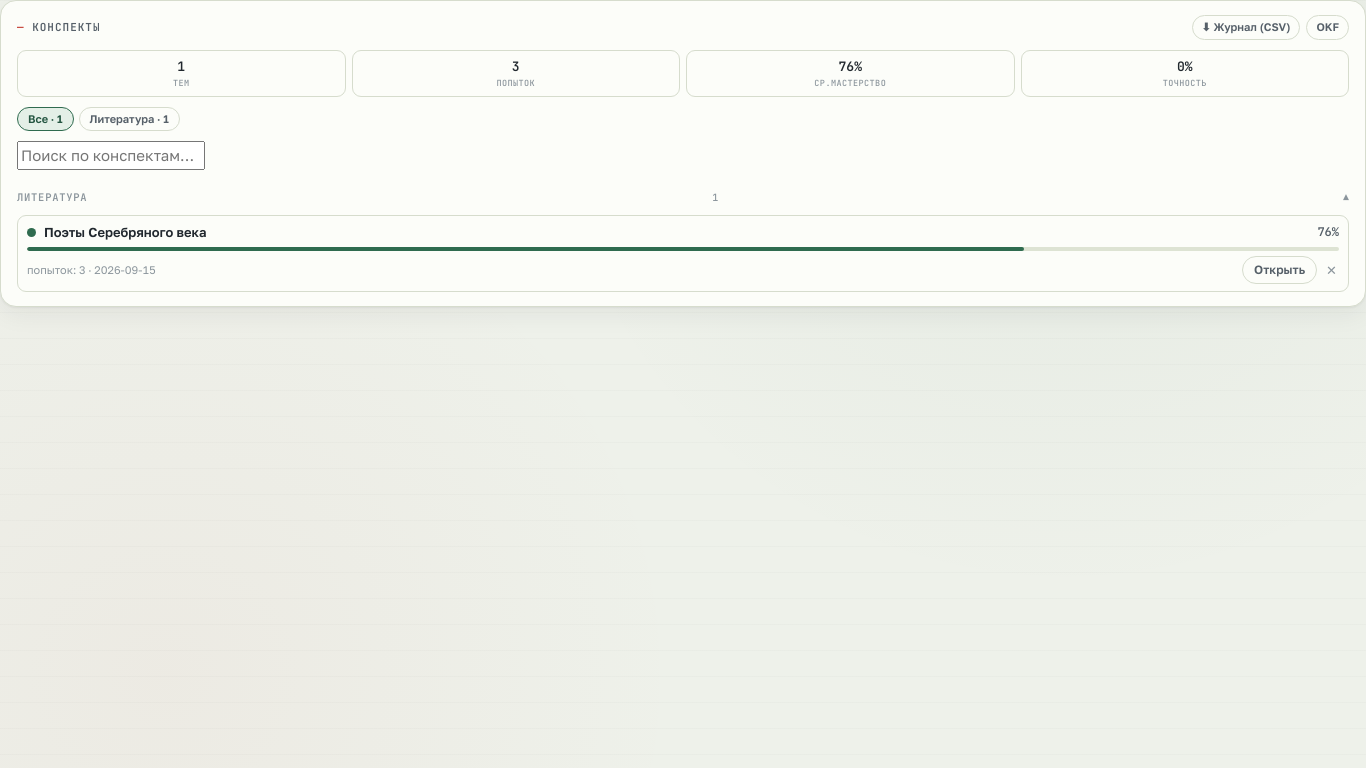
<KnowledgeWikiPanel/> › «Обогатить конспект» видна при теле-заглушке
Expected: the button "Литература · 1" is shown, [78,107,180,131]
Click the button "Поэты Серебряного века" at (125, 232), box [44,222,1309,242]
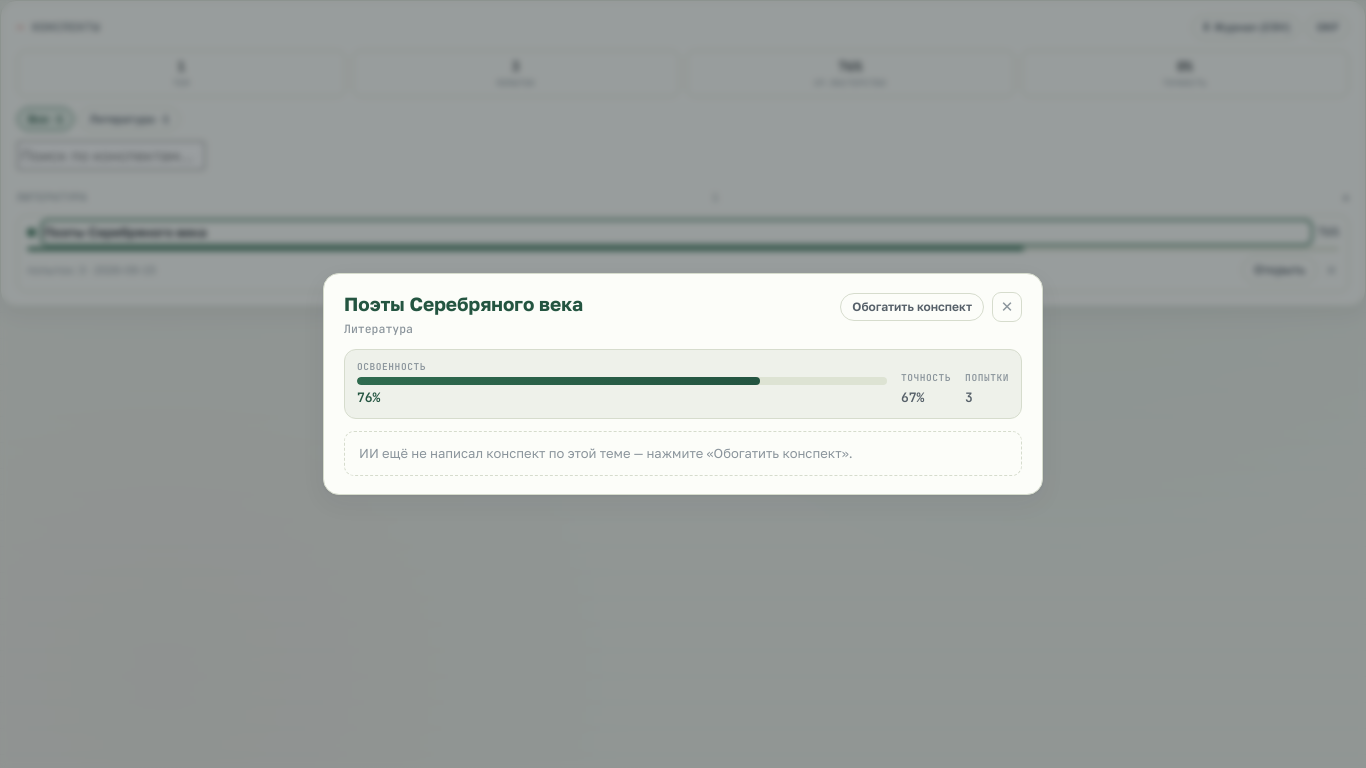
Click the button "Обогатить конспект" at (912, 307), box [840,293,984,321]
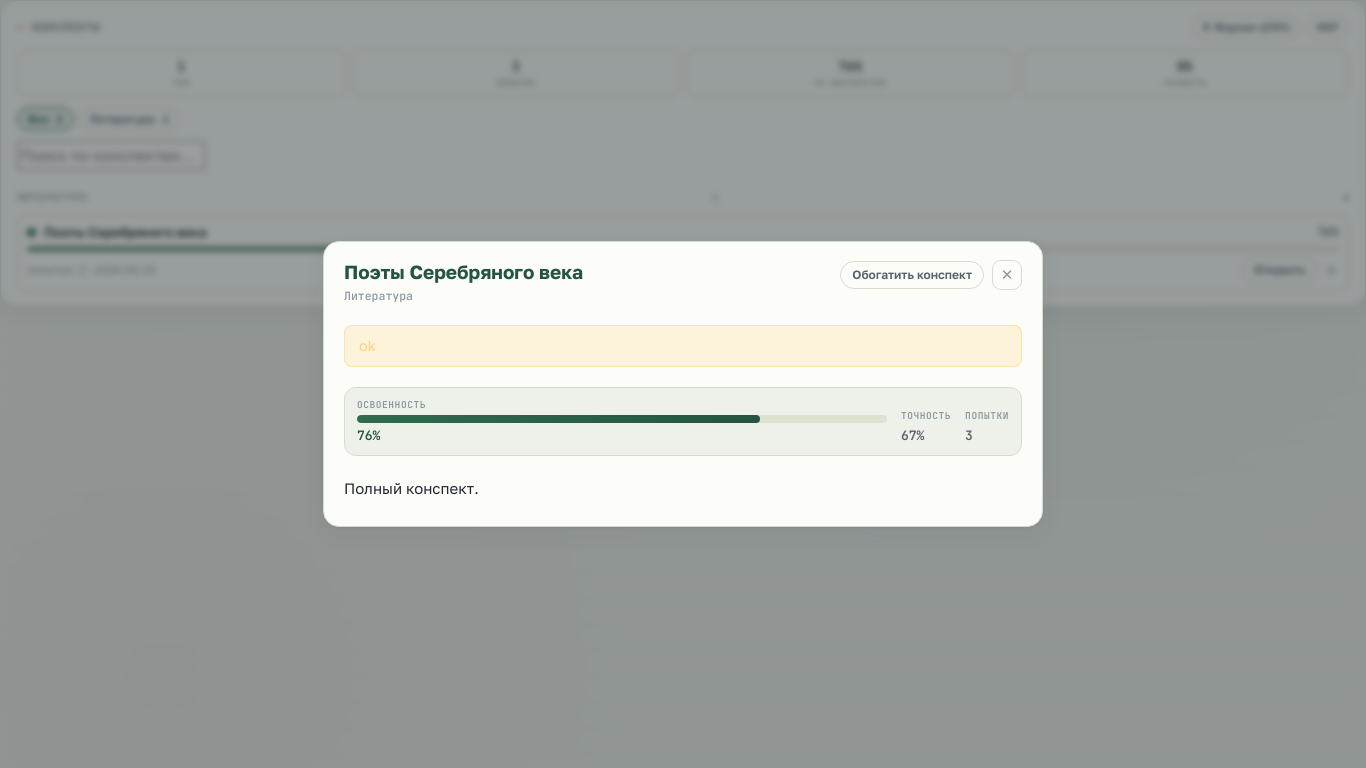
Expected: the text "Полный конспект." is shown, [344,480,479,498]
